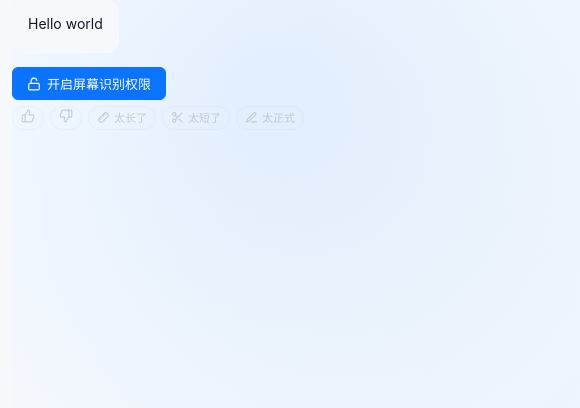
Scenario: MessageBubble › explains when screen-reading permission is unavailable on the current platform
The width and height of the screenshot is (580, 408).
Step 1. Click the button "开启屏幕识别权限" → (89, 84), box [12,67,166,100]
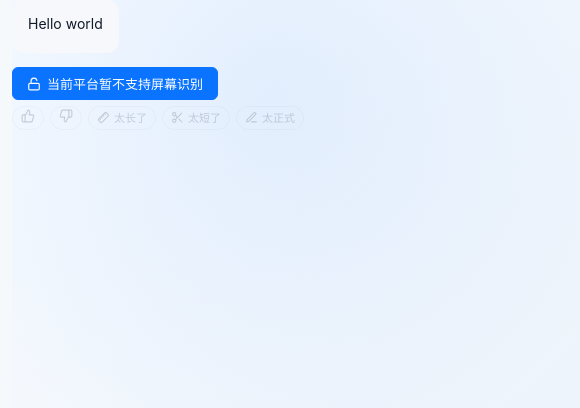
Expected: the button "当前平台暂不支持屏幕识别" is disabled, [12,67,218,100]
